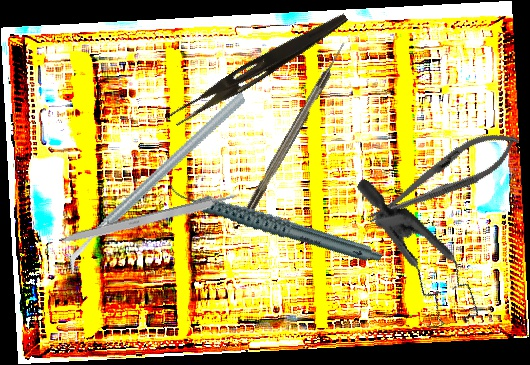Chopper: (33, 91, 281, 276)
Dressing Forceps: (168, 4, 351, 133)
Handpiece: (165, 140, 384, 305)
Hook Surgical: (242, 40, 350, 216)
Needle Holder: (358, 118, 527, 238)
Scalpel Handle: (58, 192, 238, 248)
Speculum: (317, 177, 510, 344)
